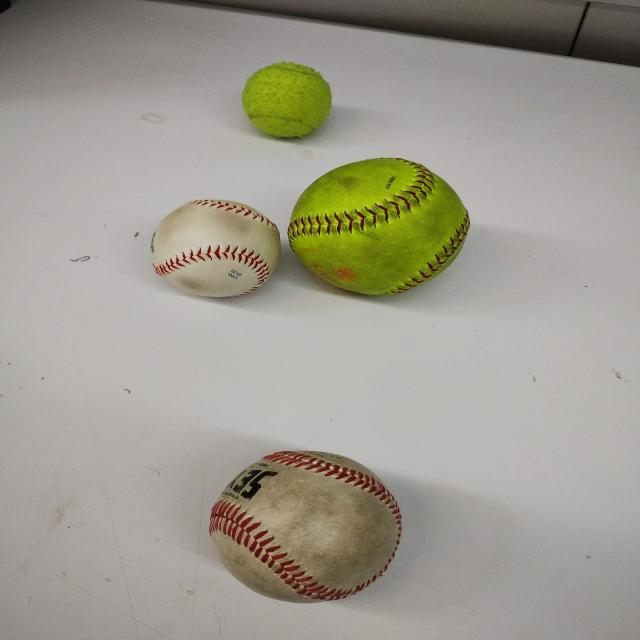beisbol ball: (198, 444, 406, 610), (148, 199, 282, 298)
softball ball: (287, 157, 470, 297)
tenis ball: (241, 62, 333, 138)
